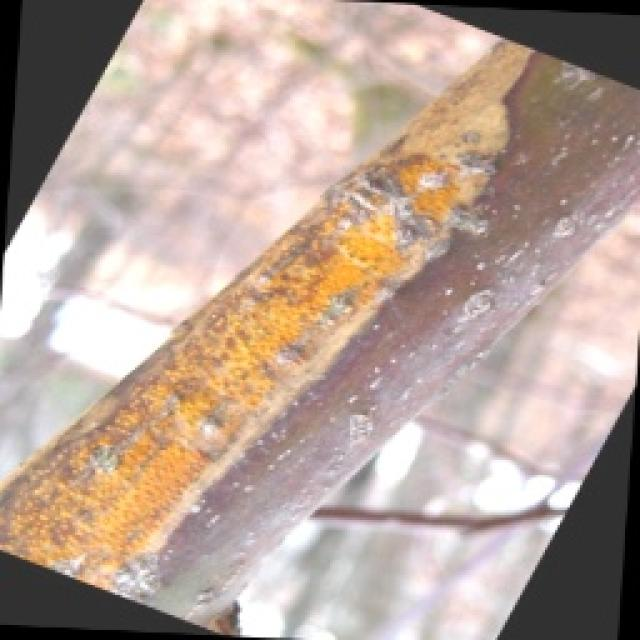Golden_canker: (0, 35, 532, 605)
